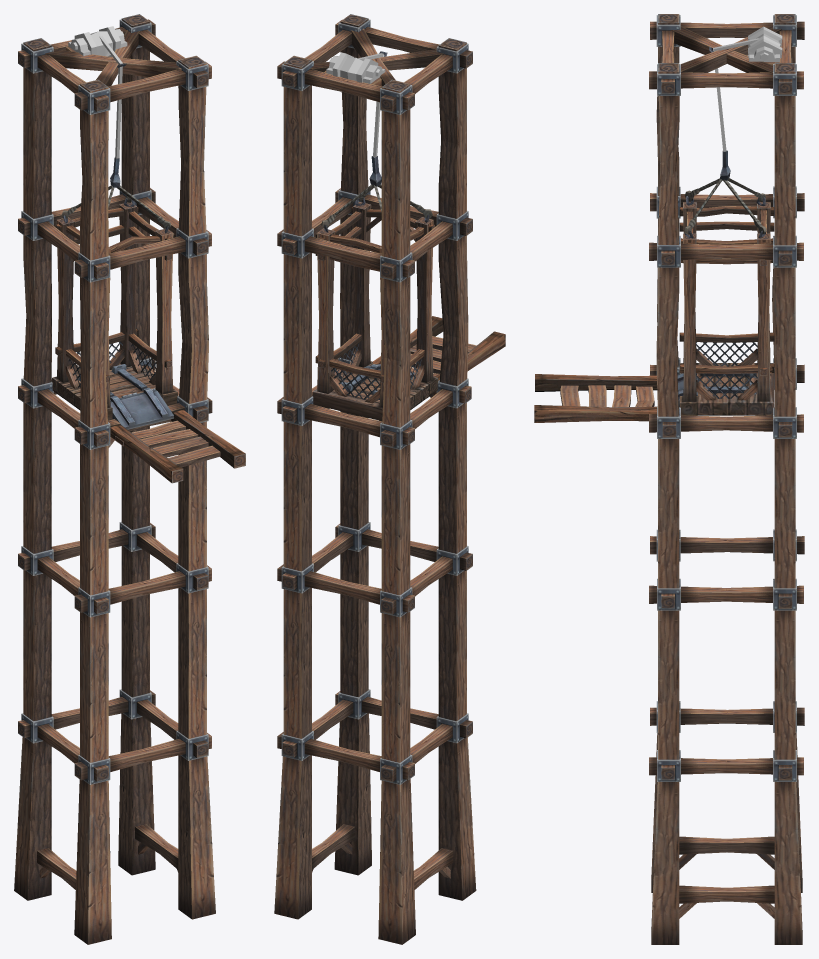
The model's file is mine_exit_01.fbx.
The picture shows the model from 3 angles, left to right: view 1: azimuth 30°, elevation 25°; view 2: azimuth 150°, elevation 25°; view 3: azimuth 270°, elevation 25°; orthographic projection. The views are drawn at different scales.
Parts seen in each view (by area): view 1: obj5; view 2: obj5; view 3: obj5.
Boxes of the visible parts, x1,y1,x2,y2 form: obj5: (14, 14, 245, 944); obj5: (274, 14, 505, 944); obj5: (534, 14, 804, 944).
Bounding box in the file's own units: 4.53 × 28.22 × 7.86.
